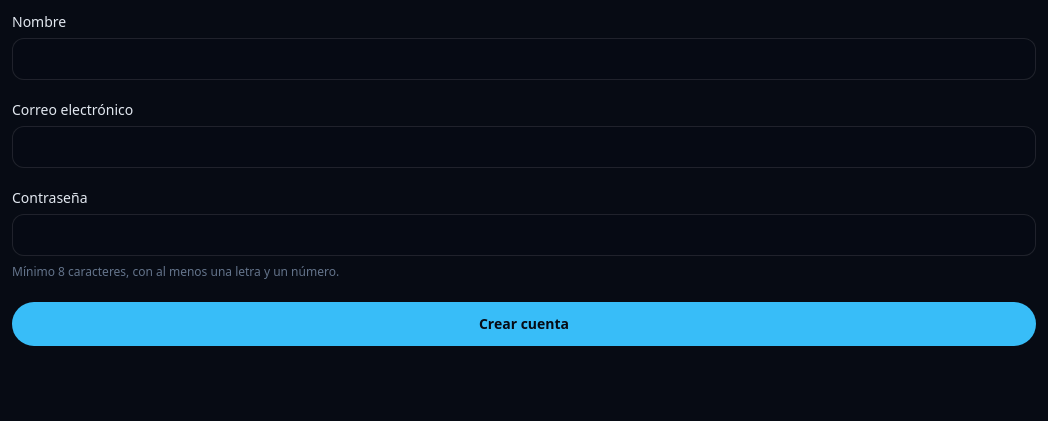
Test: RegisterForm › traduce el límite de registros con el tiempo de espera
Type "Ana" into the field labelled "Nombre" at (524, 59), box [12,38,1036,80]
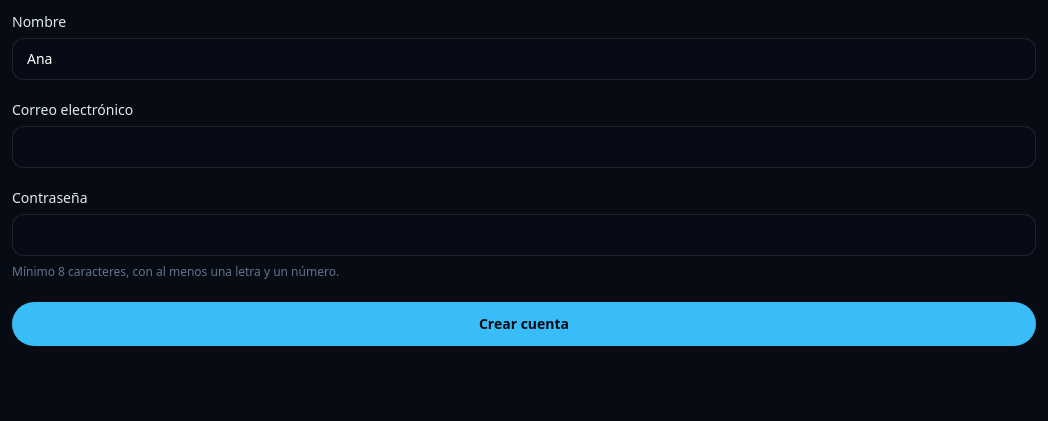
Type "ana@example.com" into the field labelled "Correo electrónico" at (524, 147), box [12,126,1036,168]
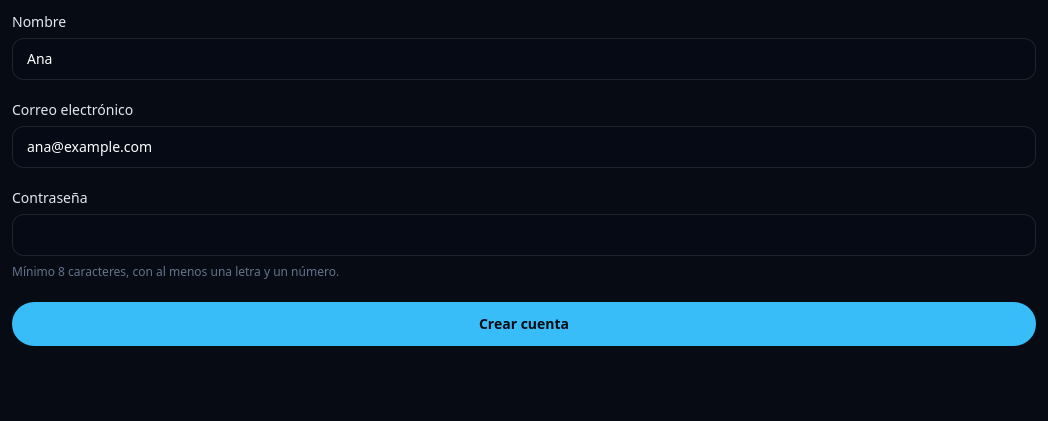
Type "S3gura!pass" into the password field labelled "Contraseña" at (524, 235), box [12,214,1036,256]
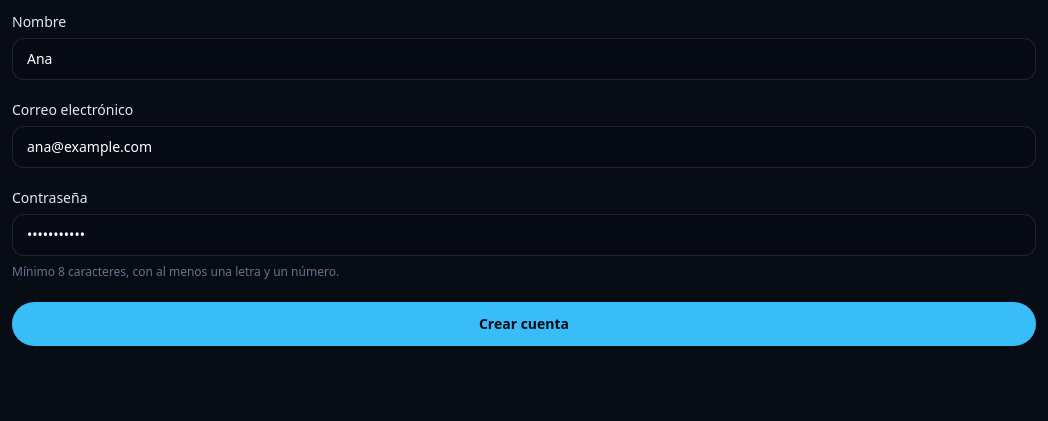
Click the button "Crear cuenta" at (524, 324), box [12,302,1036,346]
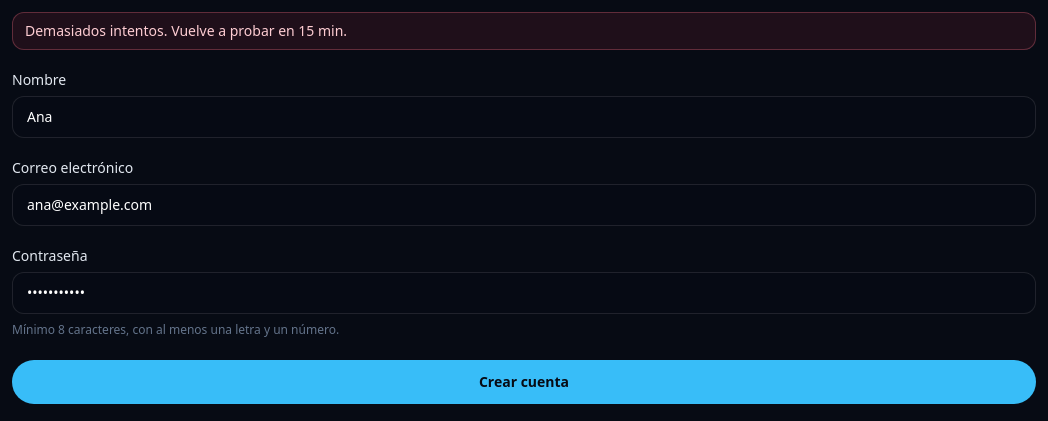
Now the message shows "Vuelve a probar en 15 min.", box [25,21,347,40]
